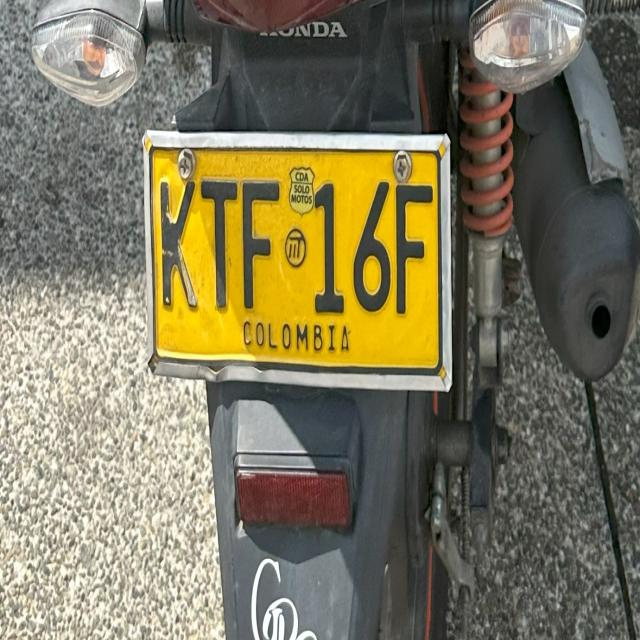number plate: (143, 131, 451, 389)
